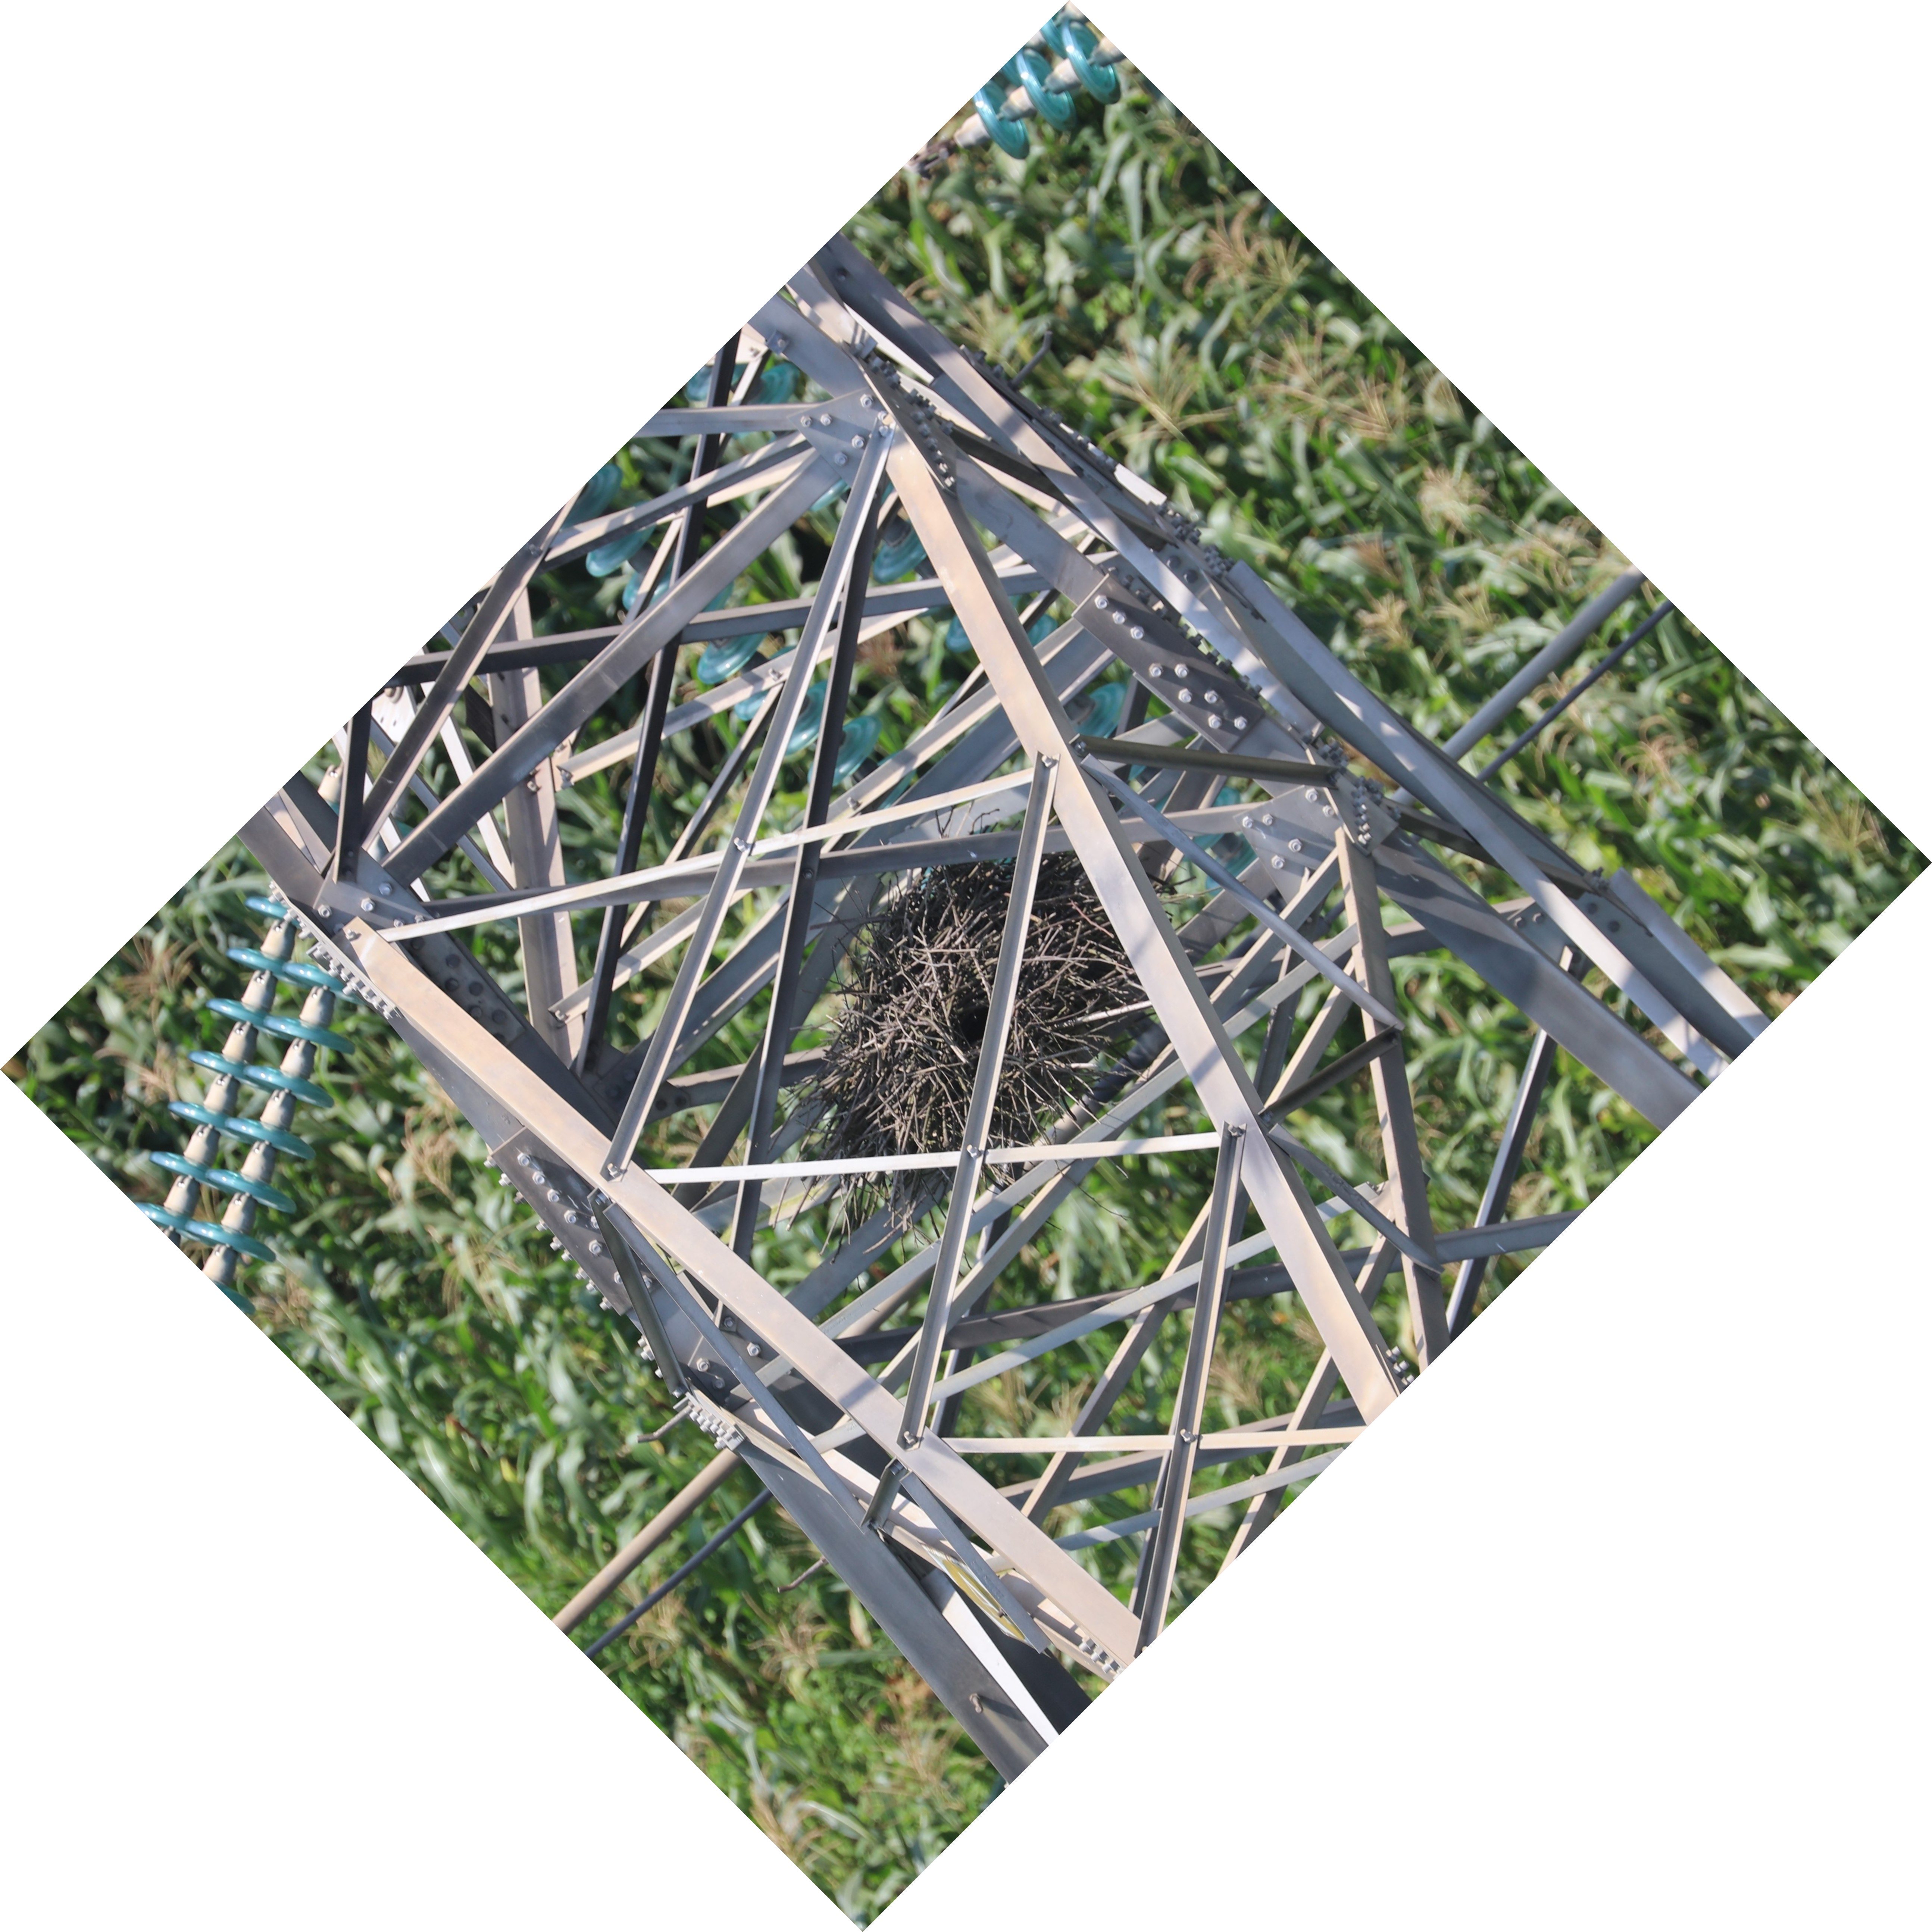niaowo: (791, 821, 1168, 1189)
